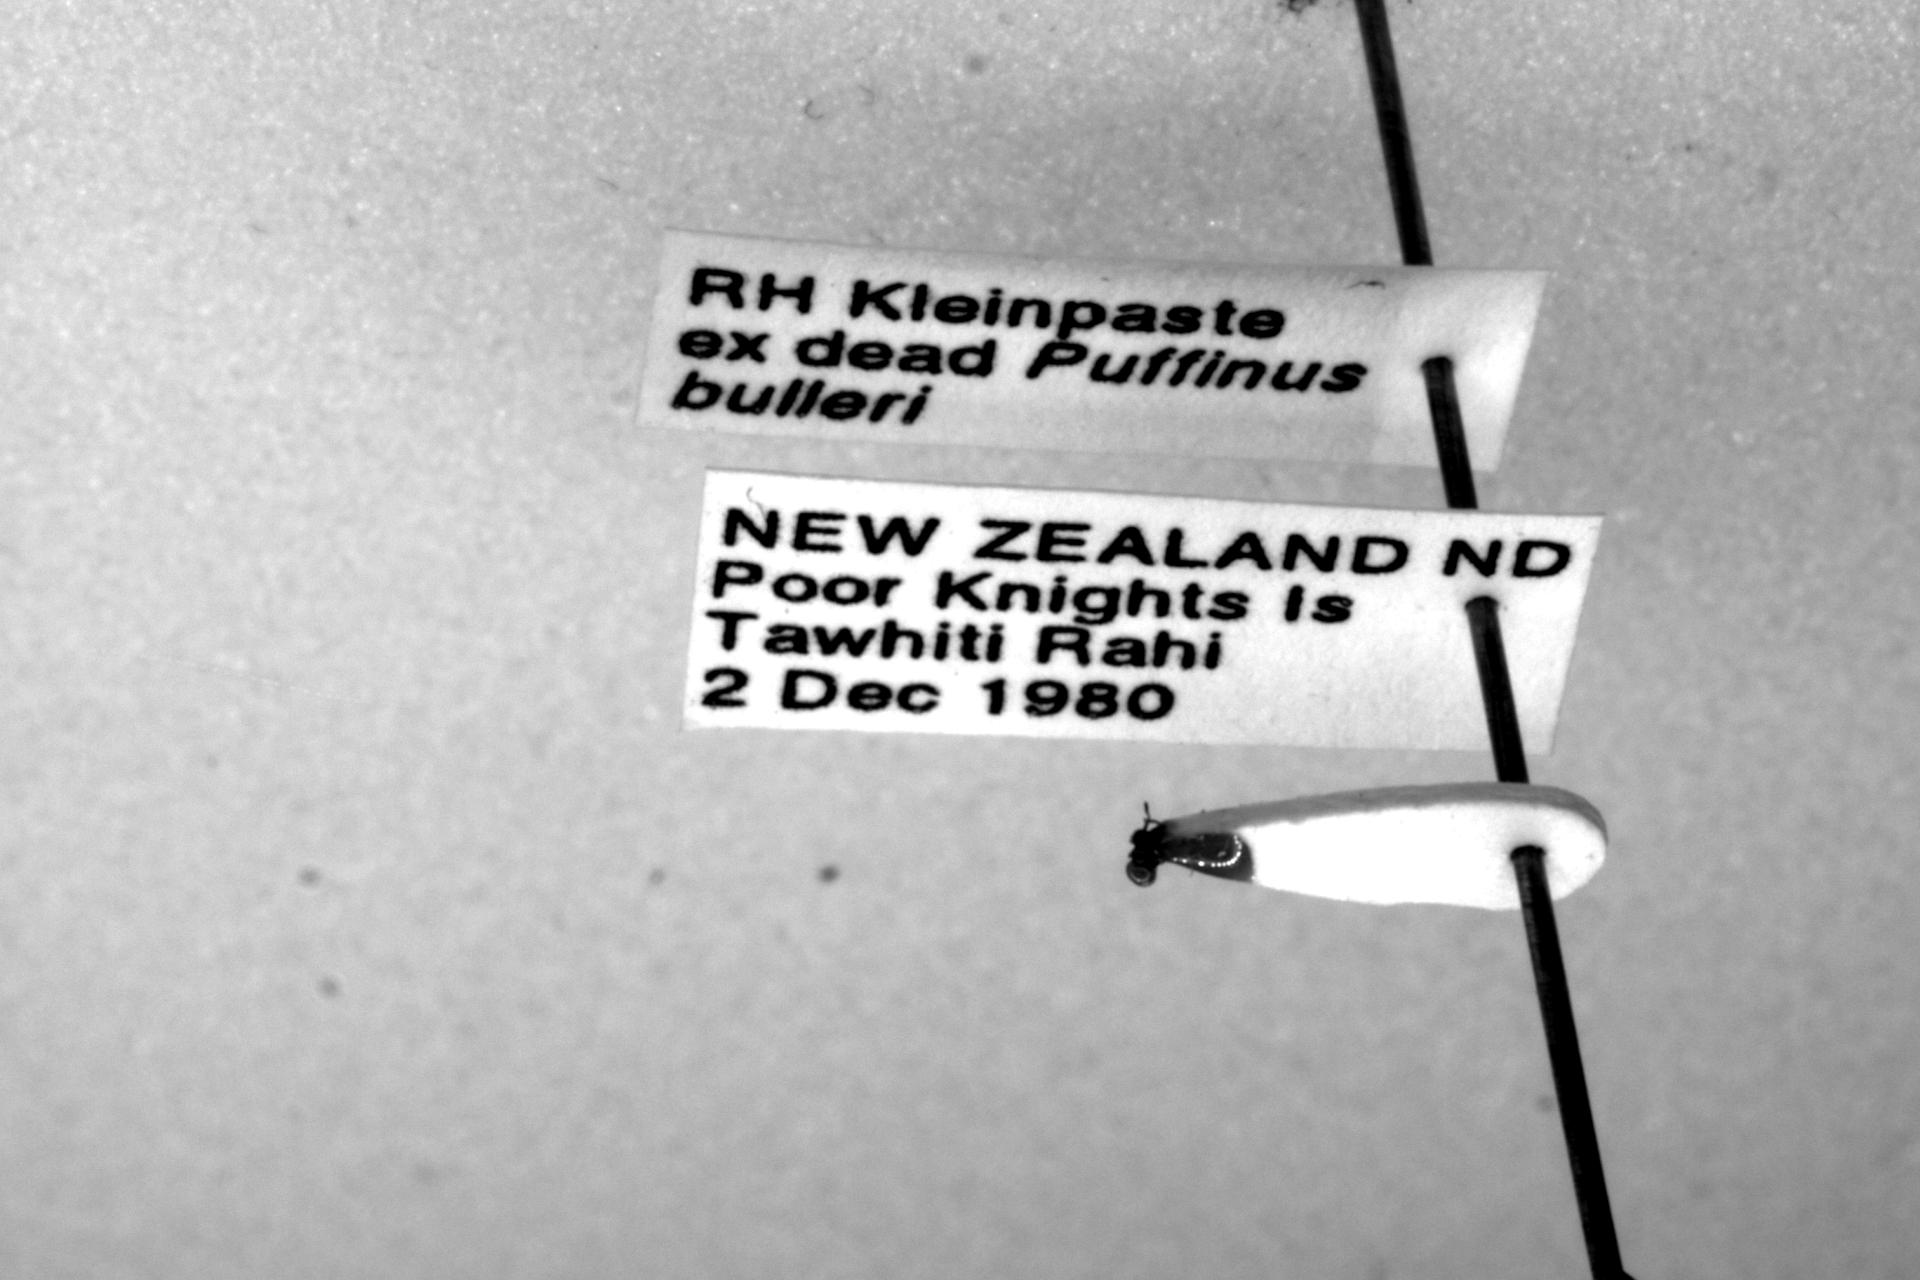typed_label: (686, 469, 1601, 754), (637, 229, 1546, 469)
